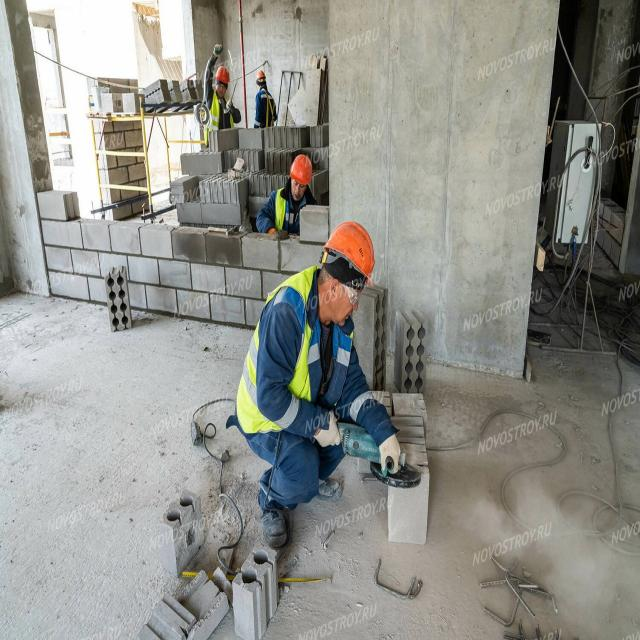Helmet: (324, 222, 376, 286), (292, 157, 314, 185), (217, 67, 232, 86), (256, 71, 267, 85)
Jacket: (247, 286, 324, 454), (272, 191, 302, 231), (209, 96, 231, 131)
NoJacket: (257, 92, 273, 126)
